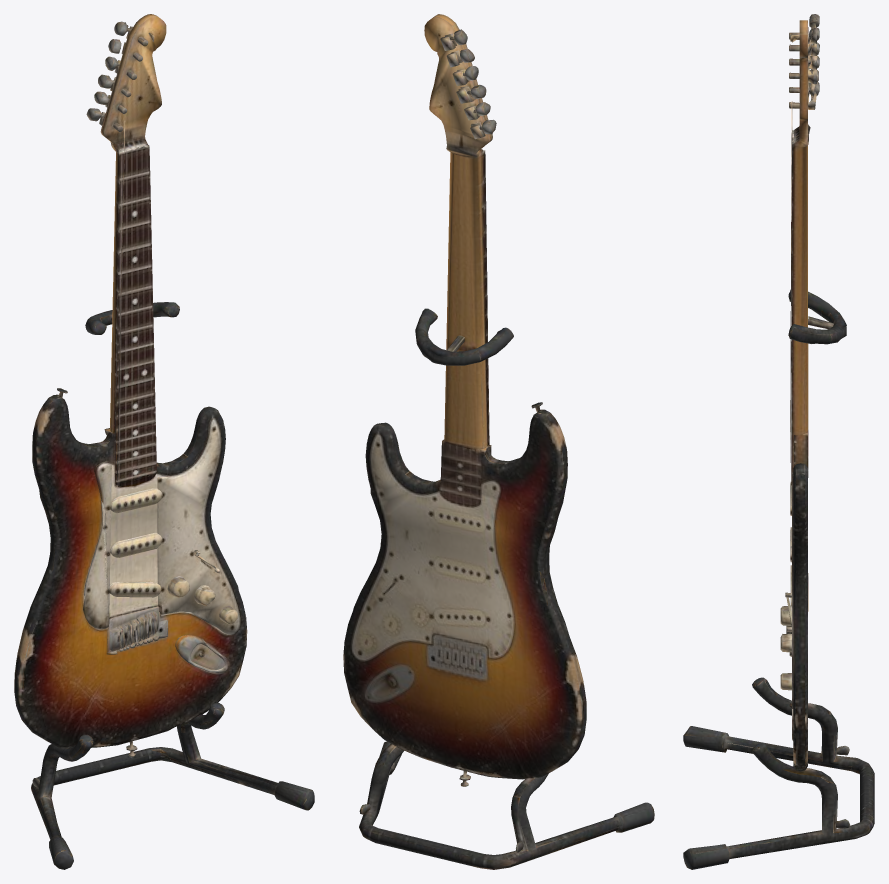
Rendered from skyways-d-mu-guitar.glb.
3 views of the same model, side by side, from view 1: azimuth 30°, elevation 25°; view 2: azimuth 150°, elevation 25°; view 3: azimuth 270°, elevation 25° (orthographic). The views are drawn at different scales.
Parts seen in each view (by area): view 1: skyways-d-mu-guitar; view 2: skyways-d-mu-guitar; view 3: skyways-d-mu-guitar.
Boxes of the visible parts, bbox=[...] form: skyways-d-mu-guitar: bbox=[14, 14, 314, 869]; skyways-d-mu-guitar: bbox=[343, 14, 654, 869]; skyways-d-mu-guitar: bbox=[683, 14, 874, 869].
Bounding box in the file's own units: 0.3674 × 1.05 × 0.2284.
Materials: 1 (1 with a texture image).
